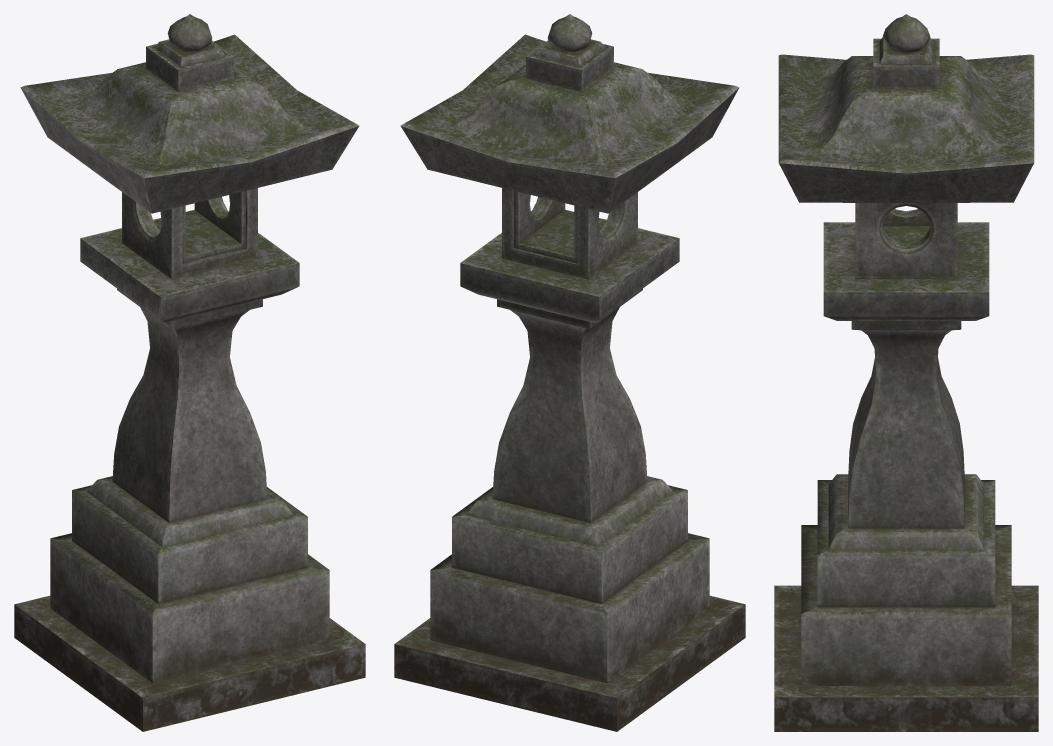
Rendered from lantern.glb.
The picture shows the model from 3 angles, left to right: view 1: azimuth 30°, elevation 25°; view 2: azimuth 150°, elevation 25°; view 3: azimuth 270°, elevation 25°; orthographic projection. The views are drawn at different scales.
Parts seen in each view (by area): view 1: Lantern; view 2: Lantern; view 3: Lantern.
Boxes of the visible parts, box(x1,y1,x2,y2) form: Lantern: box(14, 14, 365, 731); Lantern: box(394, 14, 745, 731); Lantern: box(774, 14, 1038, 731).
Bounding box in the file's own units: 1.82 × 5.04 × 1.82.
Materials: 1 (1 with a texture image).
